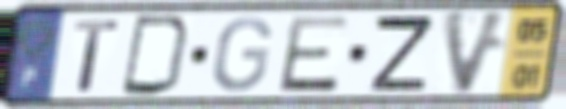D: (118, 13, 195, 99)
E: (275, 13, 353, 95)
G: (209, 15, 275, 95)
T: (71, 17, 122, 94)
V: (439, 8, 513, 98)
Z: (367, 14, 437, 94)
